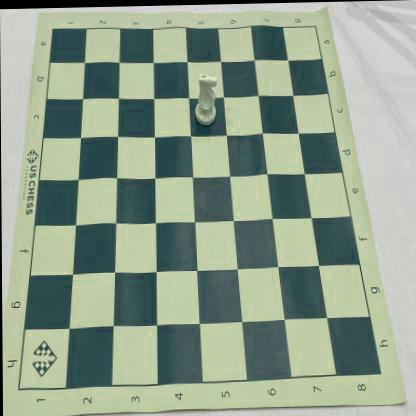white-knight: (194, 72, 218, 126)
